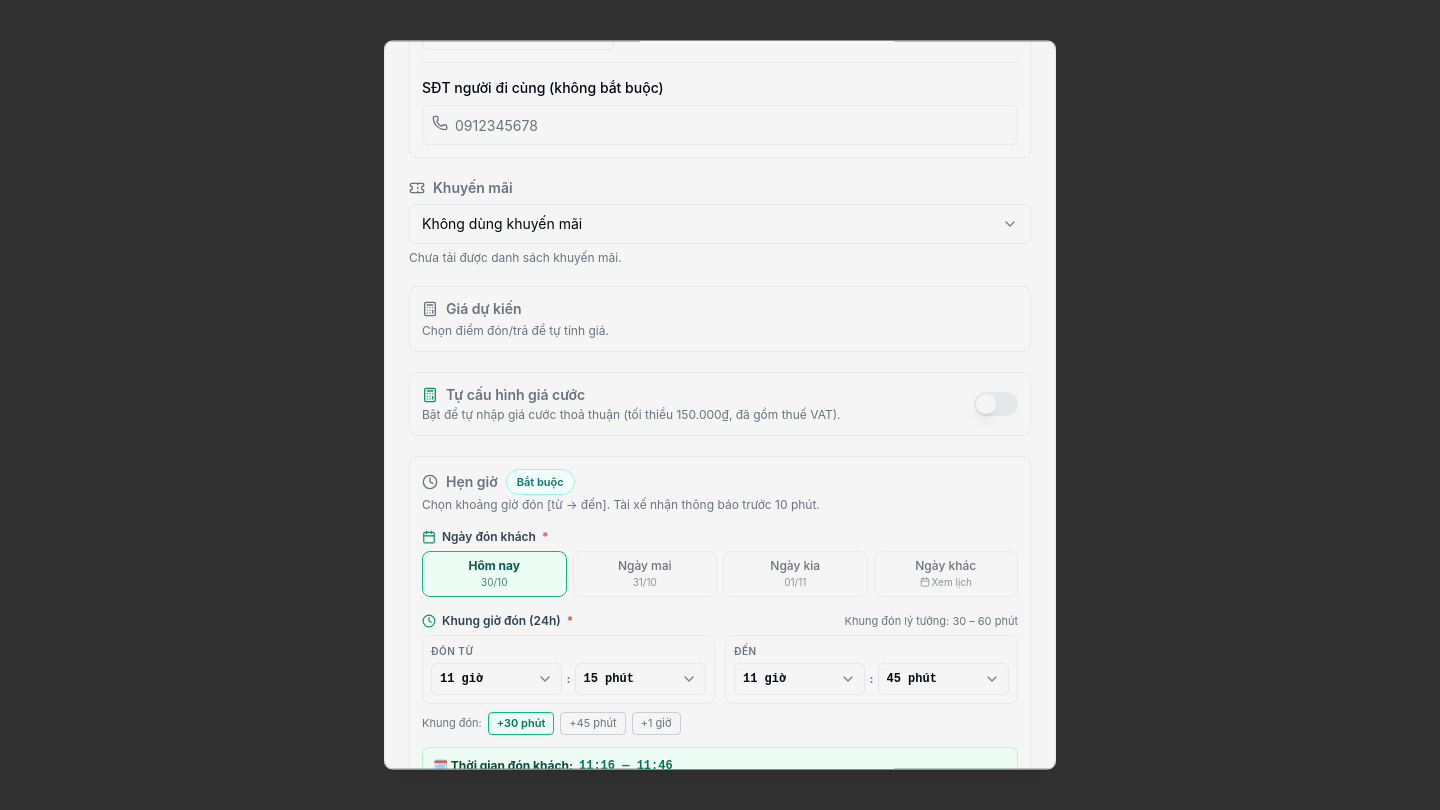
Scenario: CreateBookingDialog — Tự cấu hình giá cước (tối thiểu 150k, đã bao gồm thuế) › cảnh báo lỗi khi người dùng nhập giá < 150.000₫
(page scrolled)
Click the switch named "Tự cấu hình giá cước": (996, 404) [974,392,1018,416]
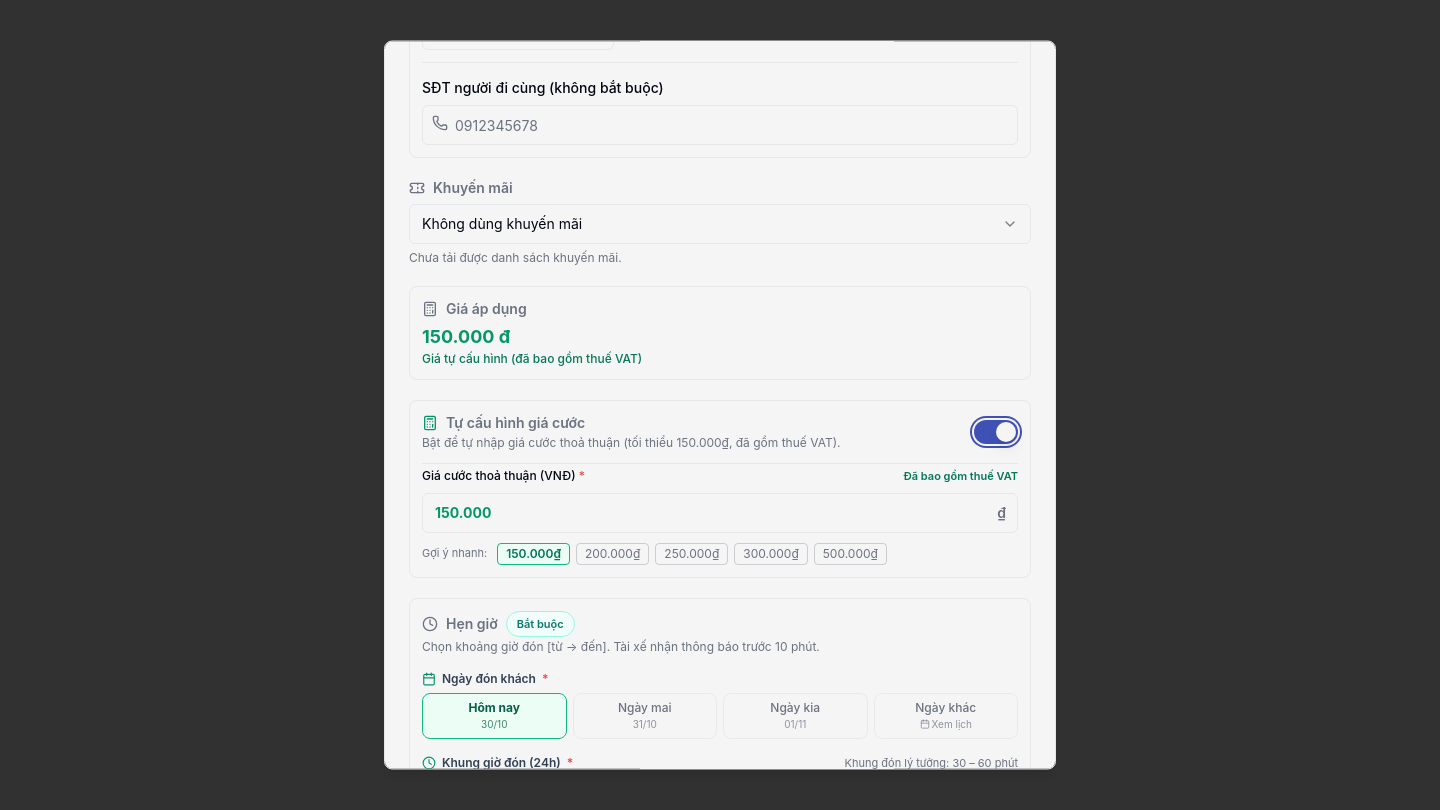
Clear the field labelled "Giá cước thoả thuận (VNĐ) *": (720, 513) [422,493,1018,533]
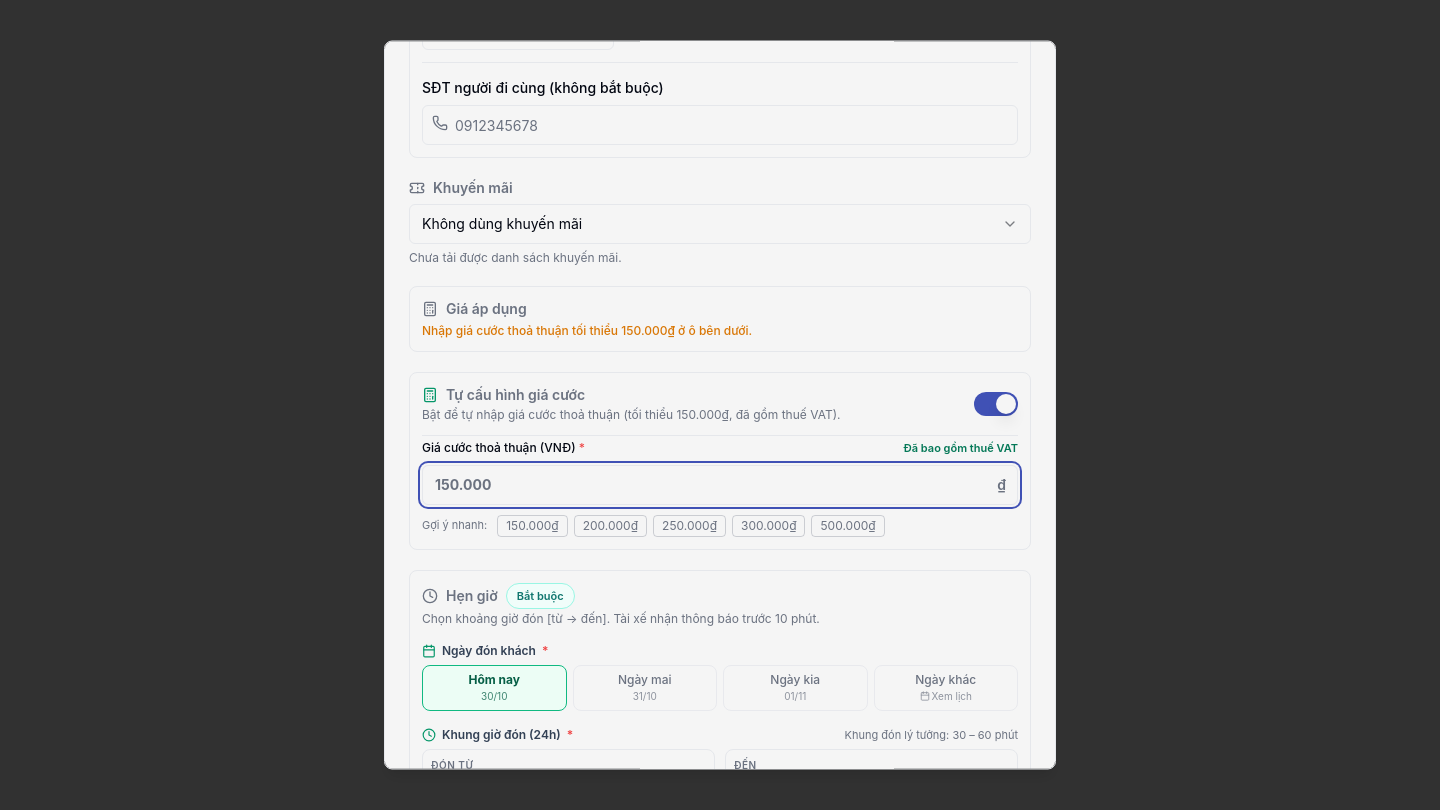
In the field labelled "Giá cước thoả thuận (VNĐ) *": (720, 485) [422,465,1018,505], type "100000"
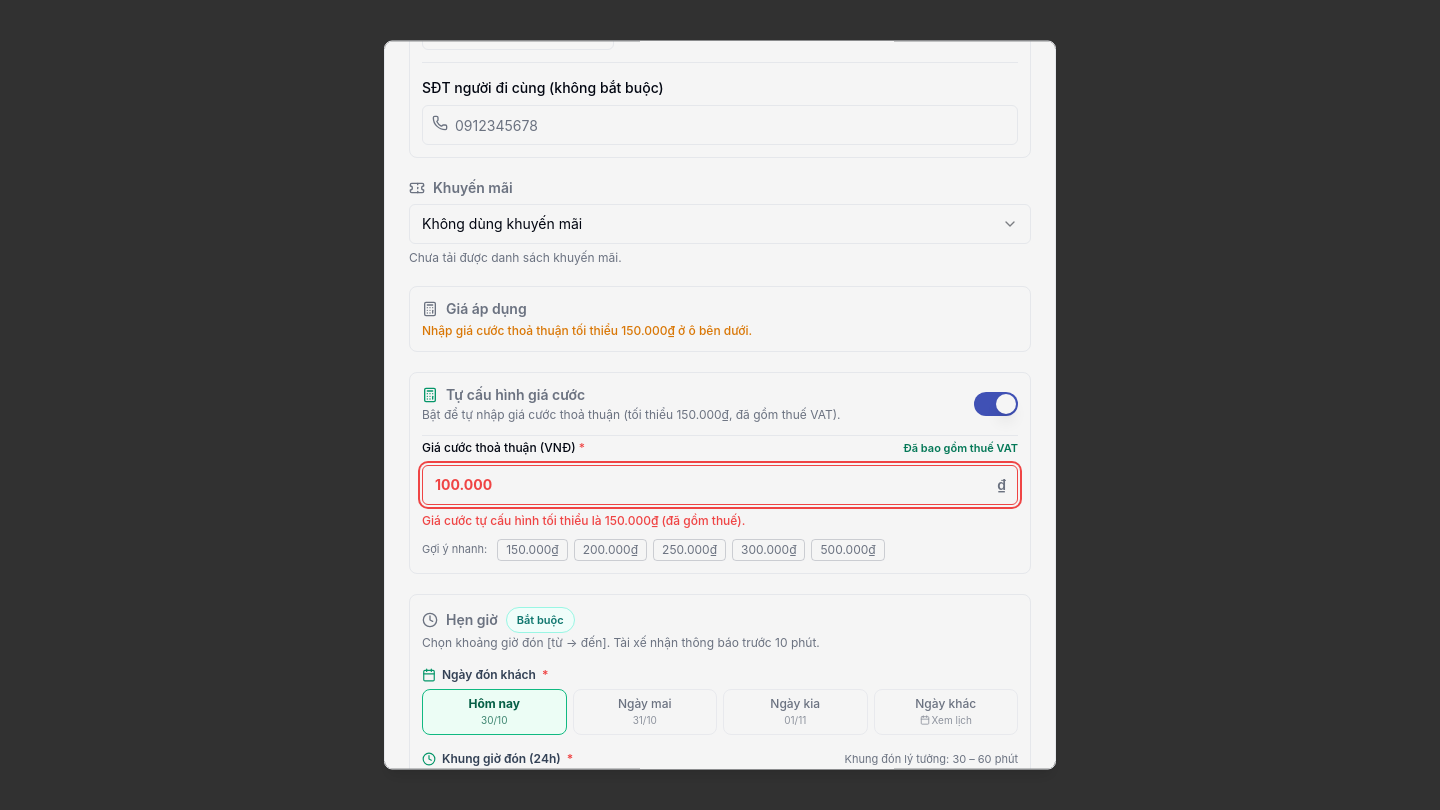
Check: the text "Giá cước tự cấu hình tối thiểu là 150.000₫ (đã gồm thuế)." is shown, box [422,513,745,528]
